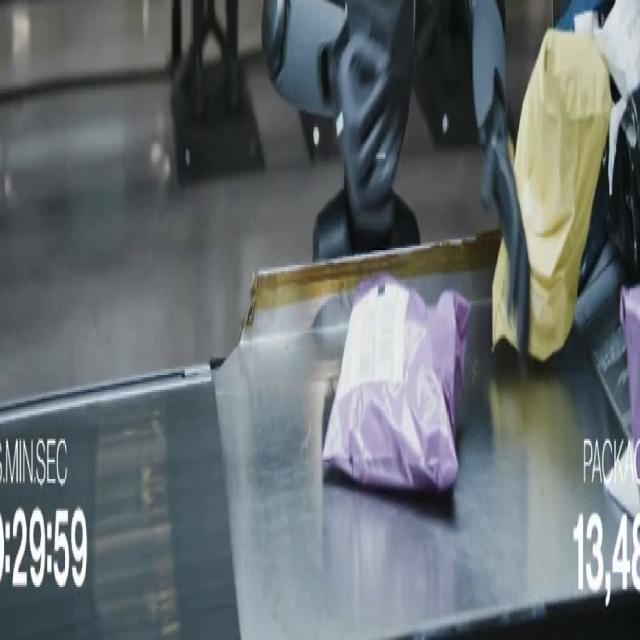package: (515, 30, 611, 362), (323, 276, 470, 491), (621, 287, 639, 449), (556, 0, 607, 31)
